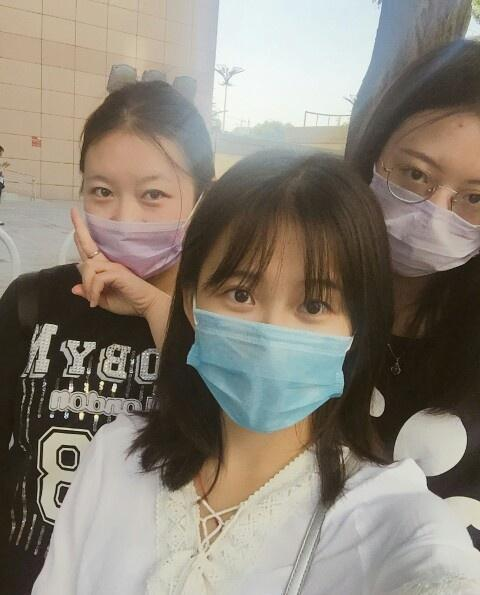OK: (192, 259, 361, 428), (372, 141, 480, 280)
WRONG: (80, 160, 197, 278)
